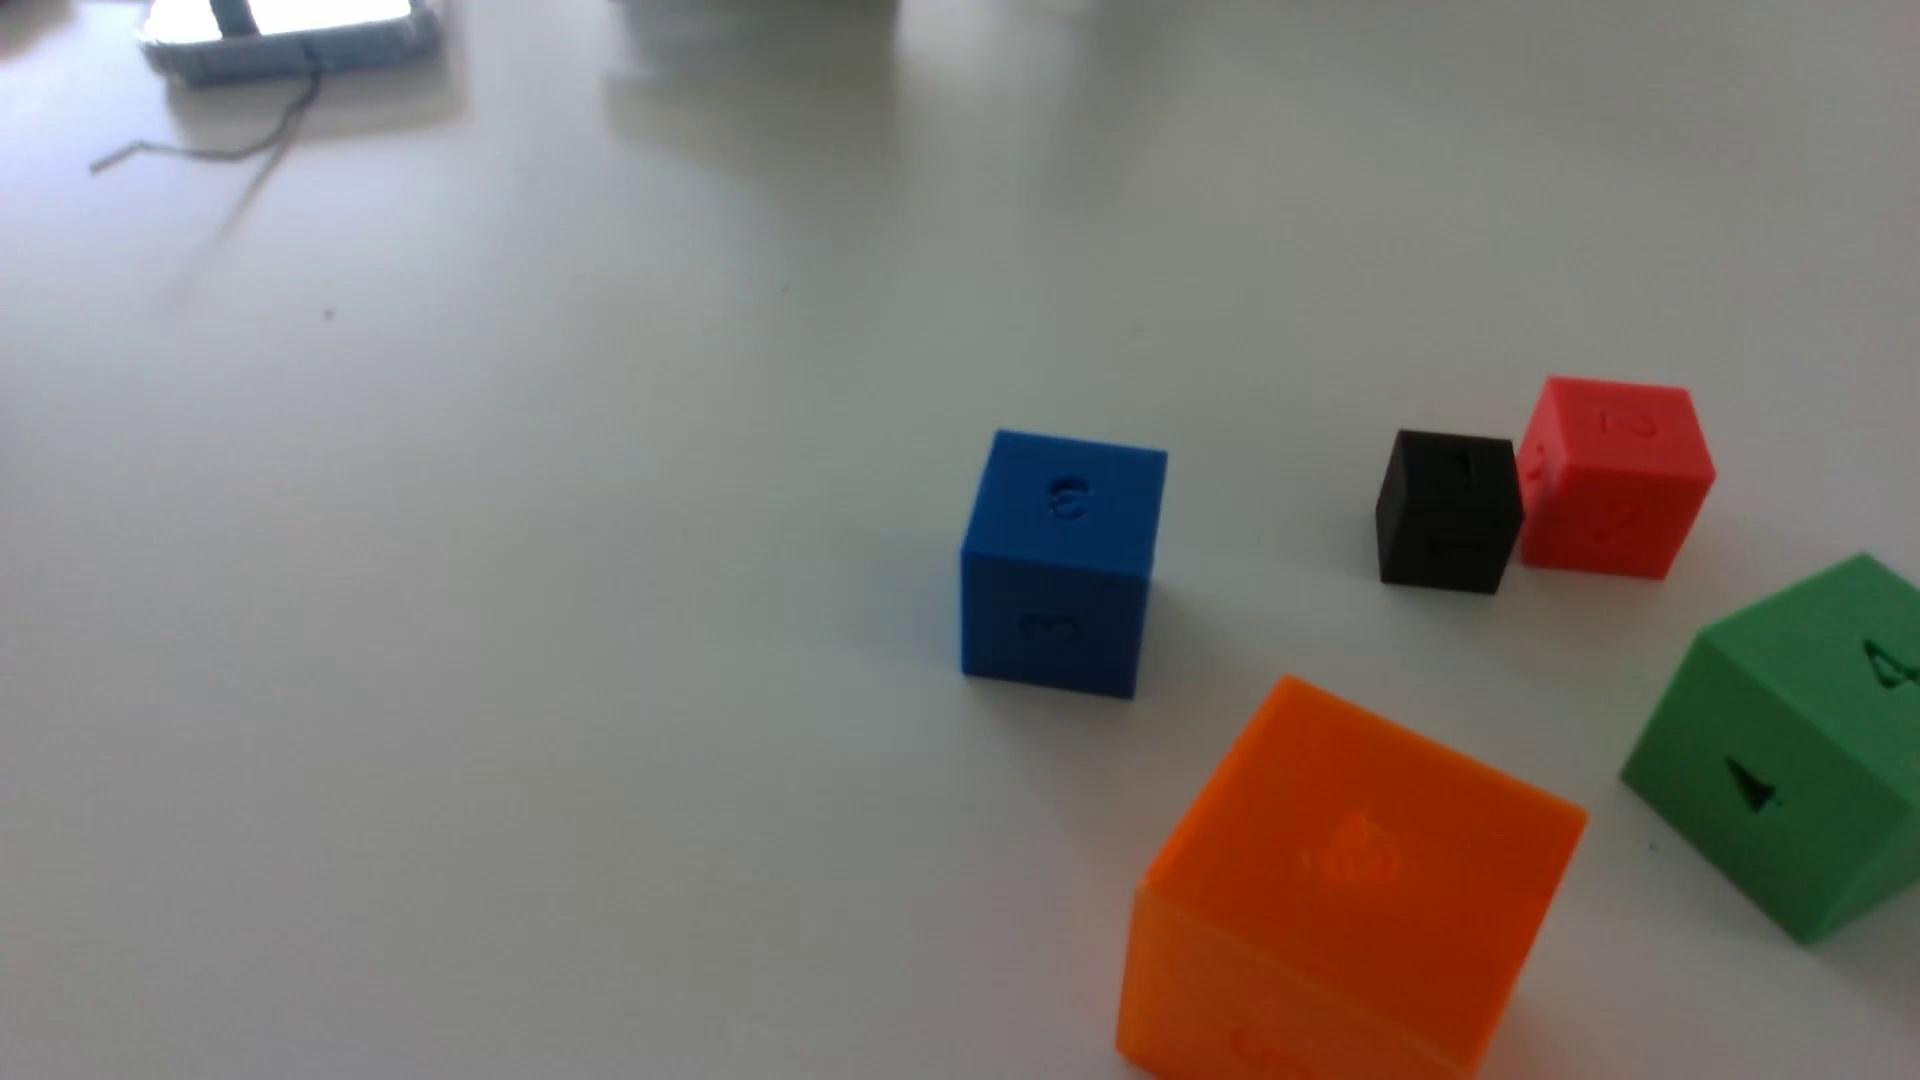black: (1375, 430, 1523, 596)
blue: (959, 431, 1168, 700)
green: (1622, 556, 1920, 945)
orange: (1116, 678, 1586, 1080)
red: (1516, 377, 1716, 582)
